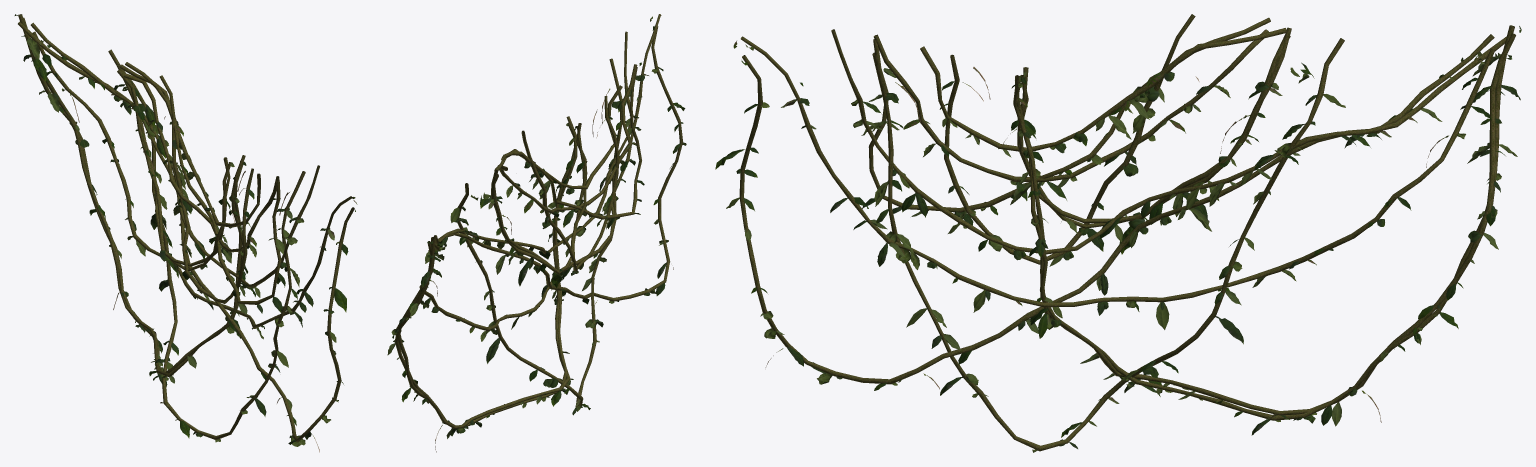
The model's file is SM_Vine_Arch_Mid.fbx.
3 renders of one model, left to right at view 1: azimuth 30°, elevation 25°; view 2: azimuth 150°, elevation 25°; view 3: azimuth 270°, elevation 25°, orthographic. The views are drawn at different scales.
Visible parts, largest first — view 1: SM_Vine_Arch_Mid_LOD0; view 2: SM_Vine_Arch_Mid_LOD0; view 3: SM_Vine_Arch_Mid_LOD0.
Part boxes in pixels (<box>): SM_Vine_Arch_Mid_LOD0: <box>14,14,357,452</box>; SM_Vine_Arch_Mid_LOD0: <box>387,14,686,452</box>; SM_Vine_Arch_Mid_LOD0: <box>715,14,1521,452</box>.
Bounding box in the file's own units: 76.04 × 620 × 376.
